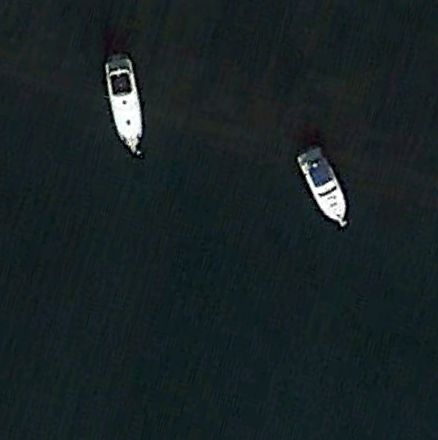boat: (295, 145, 348, 229), (104, 54, 146, 158)
